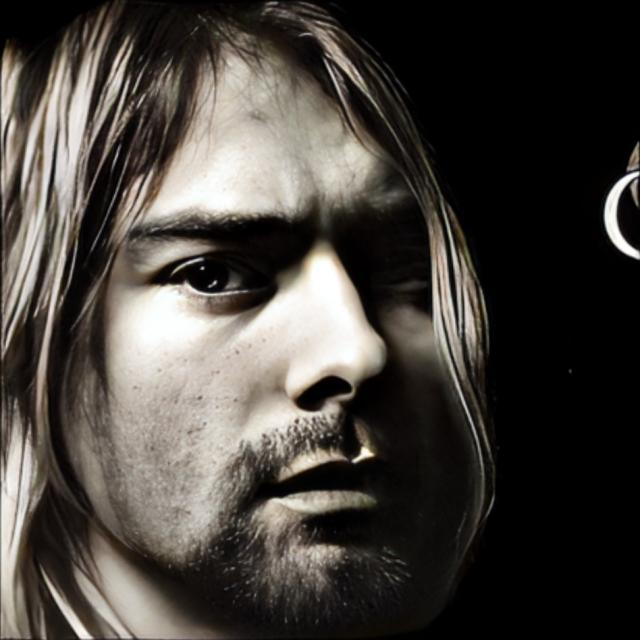fear: (55, 7, 468, 640)
